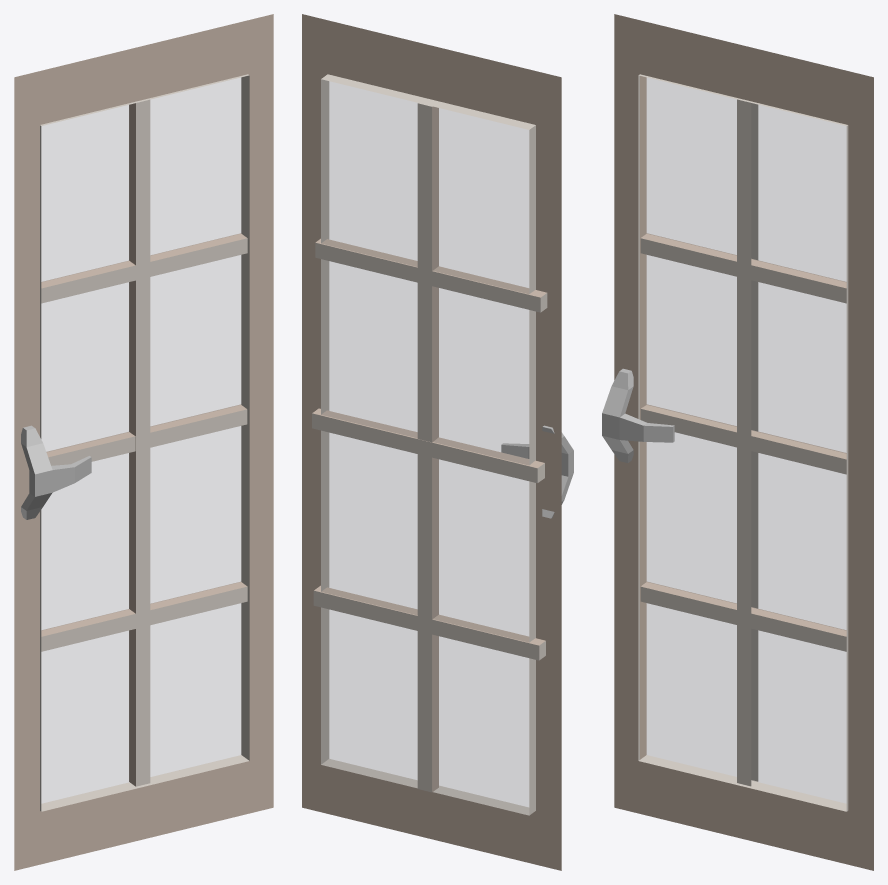
The model's file is Atelier_modular_wall_rectangular_door_left.fbx.
3 renders of one model, left to right at view 1: azimuth 30°, elevation 25°; view 2: azimuth 150°, elevation 25°; view 3: azimuth 330°, elevation 25°, orthographic.
Visible parts, largest first — view 1: Atelier_modular_wall_rectangular_door_left; view 2: Atelier_modular_wall_rectangular_door_left; view 3: Atelier_modular_wall_rectangular_door_left.
Boxes of the visible parts, <box> form: Atelier_modular_wall_rectangular_door_left: <box>14,14,273,870</box>; Atelier_modular_wall_rectangular_door_left: <box>302,14,573,870</box>; Atelier_modular_wall_rectangular_door_left: <box>602,14,873,870</box>.
Size of the model in its own units: 74.88 by 219 by 11.96.
Materials: 4 (3 with a texture image).
